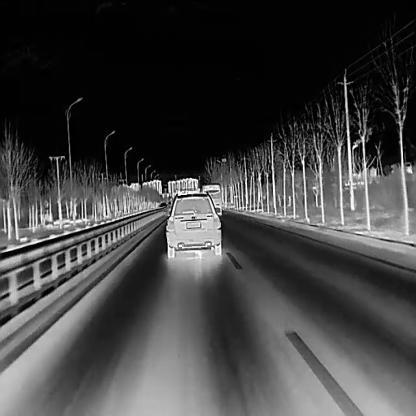car: (165, 190, 221, 258), (201, 182, 222, 217)
